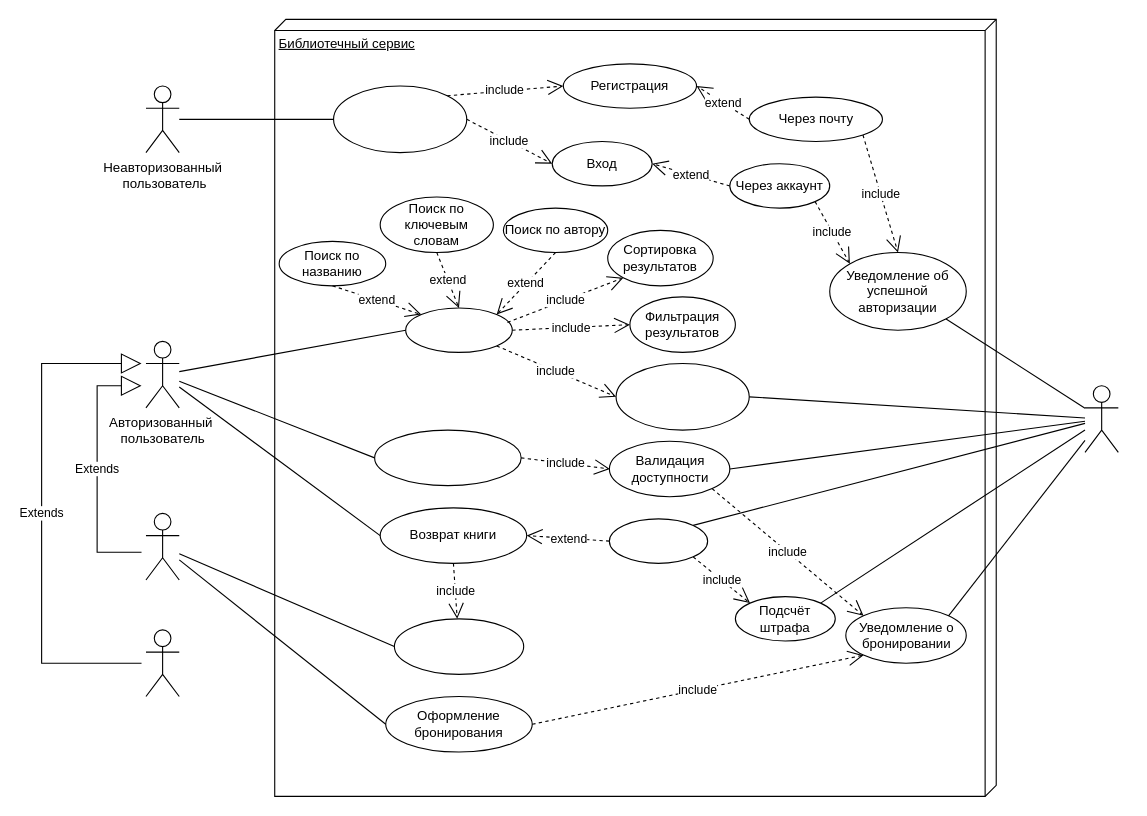
Some shapes in this 1147 by 816 pixel diagram are drawn without their labels. Each missing label, with the box of its shape:
Авторизация в системе: (332, 85, 467, 153)
Администратор: (145, 629, 179, 697)
Библиотекарь: (145, 512, 179, 580)
Бронирование книги: (374, 429, 521, 486)
Поиск книги: (405, 307, 512, 352)
Проверка состояния книги: (393, 618, 524, 674)
Система: (1084, 385, 1118, 452)
Снятие средств: (608, 518, 708, 563)
Формирование итогового списка книг: (615, 362, 749, 430)
